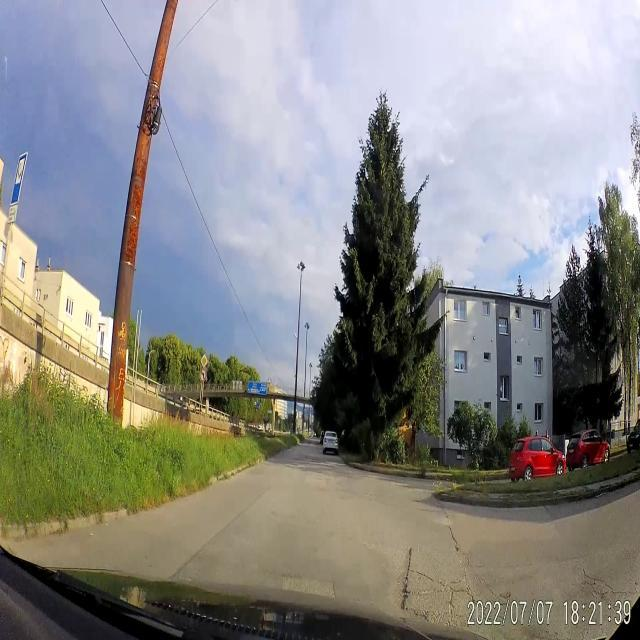Pothole: (399, 544, 418, 612)
